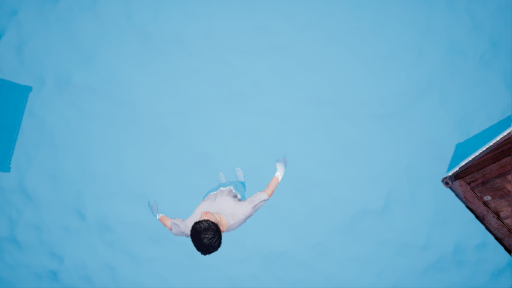person: (159, 154, 287, 259)
